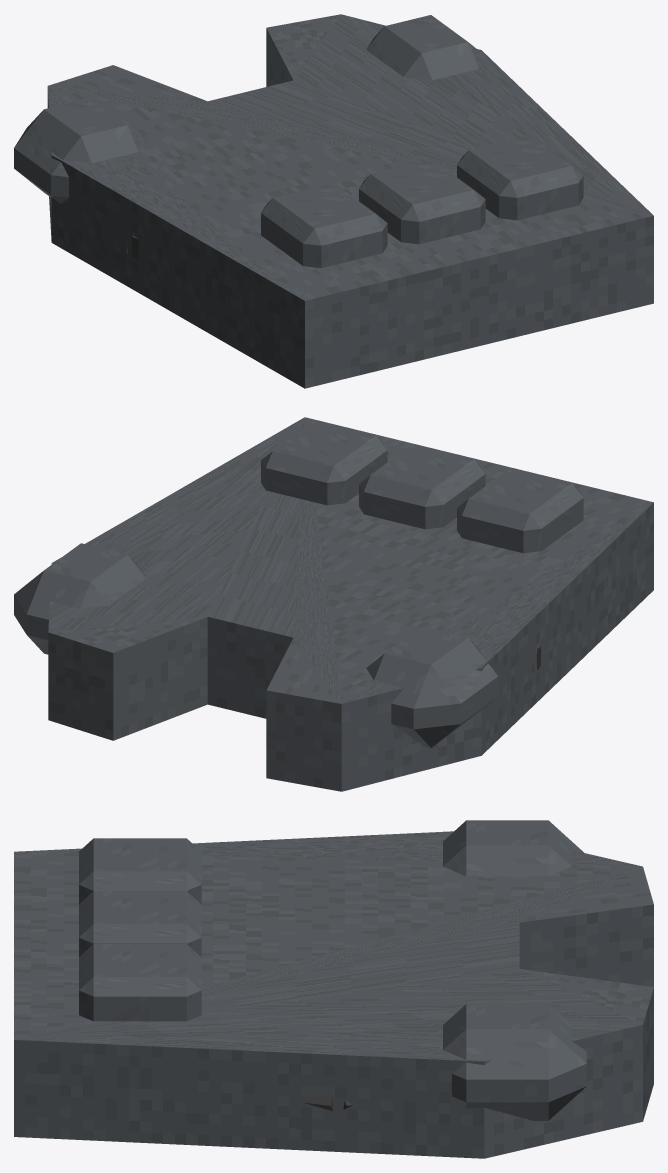
The model's file is heavy_load_bearing_vest.glb.
3 renders of one model, top to bottom at view 1: azimuth 30°, elevation 25°; view 2: azimuth 150°, elevation 25°; view 3: azimuth 270°, elevation 25°, orthographic. The views are drawn at different scales.
Parts seen in each view (by area): view 1: block_vest body, block_front utility compartment (×3), block_shoulder pad (×2); view 2: block_vest body, block_front utility compartment (×3), block_shoulder pad (×2); view 3: block_vest body, block_front utility compartment (×3), block_shoulder pad (×2).
Part boxes in pixels (x1=…): block_vest body: x1=47, y1=14, x2=653, y2=388; block_front utility compartment (×3): x1=261, y1=135, x2=583, y2=268; block_shoulder pad (×2): x1=14, y1=15, x2=486, y2=203; block_vest body: x1=48, y1=417, x2=653, y2=791; block_front utility compartment (×3): x1=261, y1=420, x2=583, y2=553; block_shoulder pad (×2): x1=14, y1=543, x2=498, y2=747; block_vest body: x1=14, y1=831, x2=653, y2=1158; block_front utility compartment (×3): x1=79, y1=838, x2=201, y2=1021; block_shoulder pad (×2): x1=443, y1=820, x2=586, y2=1120.
Bounding box in the file's own units: 0.2846 × 0.0745 × 0.3193.
1 material, 1 textured.
